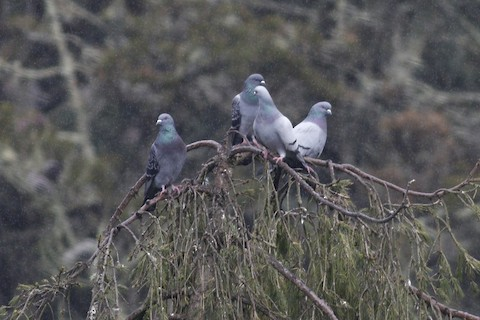pigeon: (265, 95, 335, 189), (137, 109, 191, 216), (253, 80, 306, 189), (227, 71, 275, 161)
